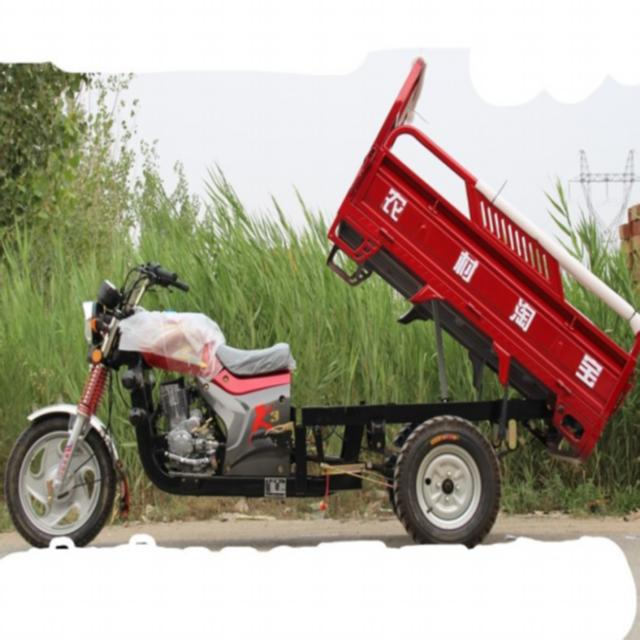tricycle: (2, 54, 636, 551)
